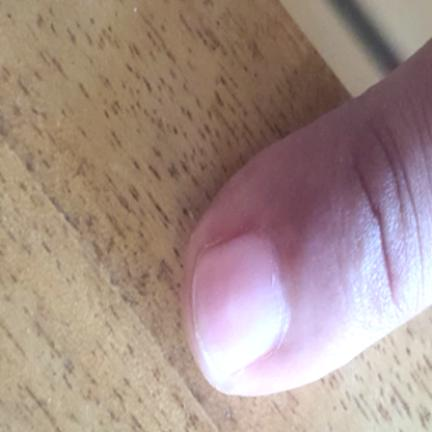Nail: (192, 233, 282, 380)
